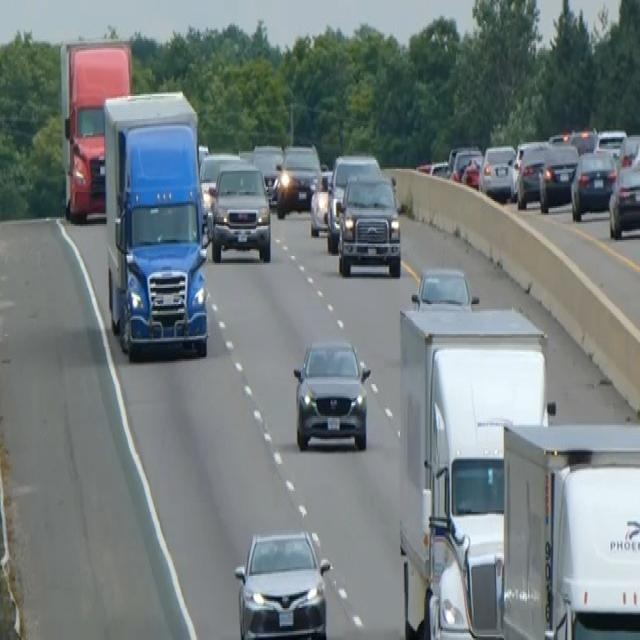car: (233, 526, 331, 638), (291, 336, 371, 452), (336, 172, 402, 278), (208, 162, 272, 263), (326, 151, 380, 251), (274, 140, 321, 217), (569, 146, 616, 220), (198, 150, 242, 228), (608, 134, 639, 238), (410, 263, 477, 309), (538, 138, 579, 212), (513, 139, 549, 208), (478, 142, 516, 201), (250, 143, 283, 205), (309, 166, 333, 237), (448, 144, 482, 185), (595, 126, 627, 162), (568, 126, 598, 155), (461, 154, 482, 188)
lorry: (102, 87, 211, 361)
